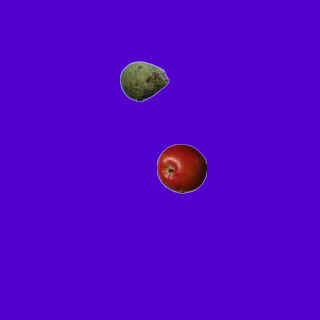Apple Braeburn: (156, 143, 206, 193)
Pear Stone: (119, 56, 169, 106)
